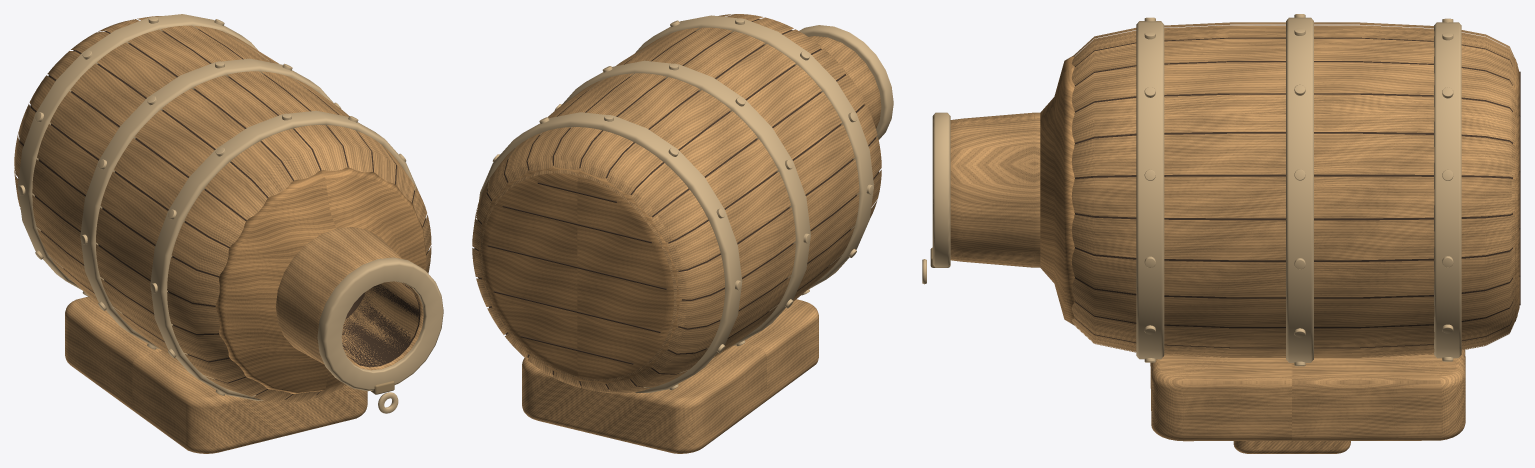
The model's file is wind_scoop_nozzle.glb.
3 views of the same model, side by side, from view 1: azimuth 30°, elevation 25°; view 2: azimuth 150°, elevation 25°; view 3: azimuth 270°, elevation 25° (orthographic). The views are drawn at different scales.
Parts seen in each view (by area): view 1: LightOak, Brass, EndGrain, Bore; view 2: LightOak, EndGrain, Brass, Bore; view 3: LightOak, Brass, EndGrain, Bore.
Part boxes in pixels (box(x1,y1,x2,y2)): LightOak: box(14, 16, 431, 453); Brass: box(17, 14, 443, 413); EndGrain: box(215, 167, 426, 393); Bore: box(18, 29, 428, 399); LightOak: box(472, 14, 881, 453); EndGrain: box(478, 48, 865, 383); Brass: box(476, 15, 893, 392); Bore: box(474, 19, 879, 389); LightOak: box(950, 22, 1517, 453); Brass: box(922, 14, 1461, 366); EndGrain: box(1040, 55, 1519, 324); Bore: box(1075, 37, 1520, 348).
Size of the model in its own units: 0.1767 by 0.2213 by 0.2998.
Materials: 5 (2 with a texture image).
